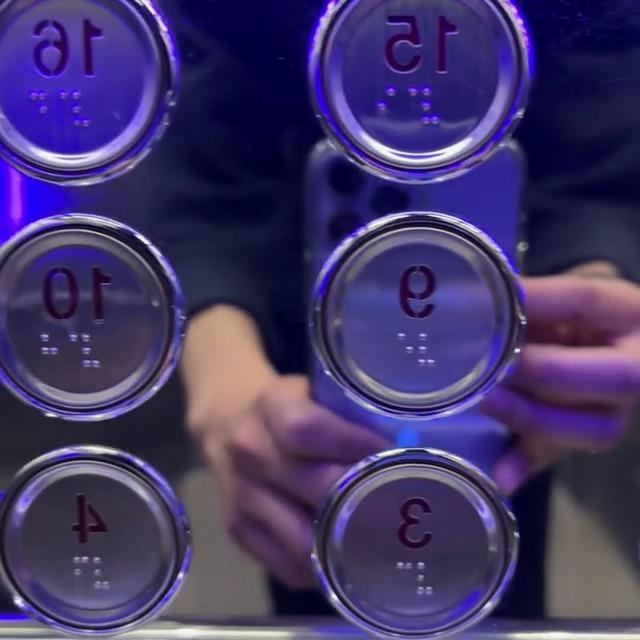button: (326, 221, 535, 413), (306, 439, 509, 634), (311, 10, 533, 172), (0, 226, 181, 416), (0, 438, 172, 623), (0, 18, 188, 178)
